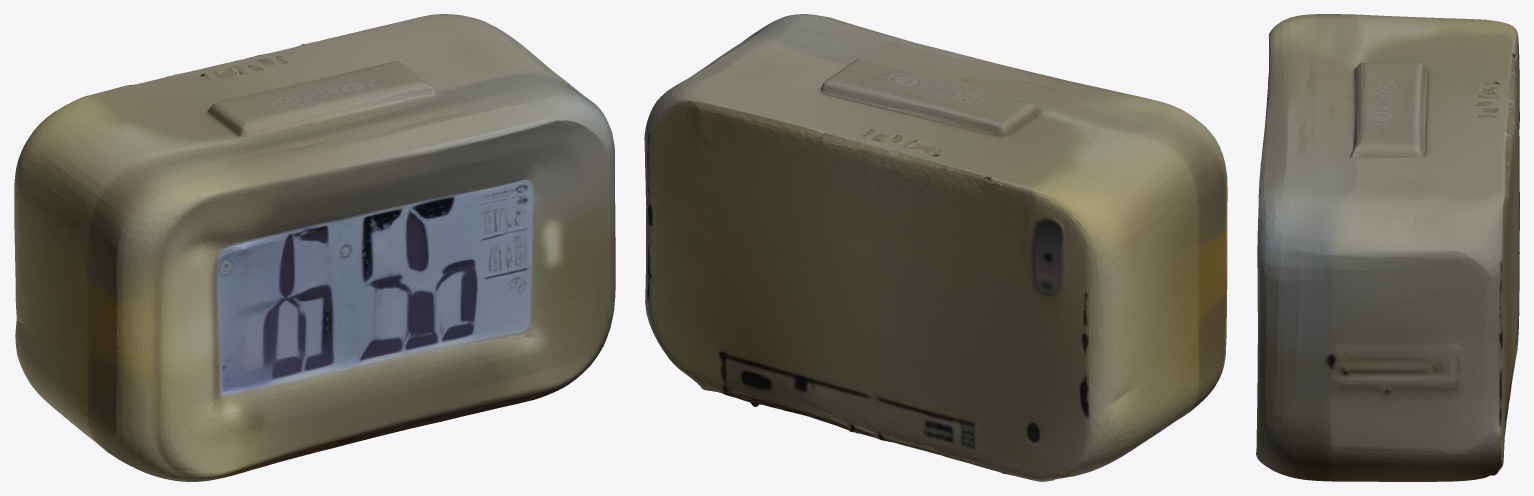
3 views of the same model, side by side, from view 1: azimuth 30°, elevation 25°; view 2: azimuth 150°, elevation 25°; view 3: azimuth 270°, elevation 25° (orthographic). The views are drawn at different scales.
Visible parts, largest first — view 1: world; view 2: world; view 3: world.
Boxes of the visible parts, box(x1,y1,x2,y2) form: world: box(14, 14, 615, 481); world: box(644, 14, 1227, 481); world: box(1256, 14, 1519, 481).
Bounding box in the file's own units: 0.9956 × 0.601 × 0.4828.
1 material, 1 textured.
